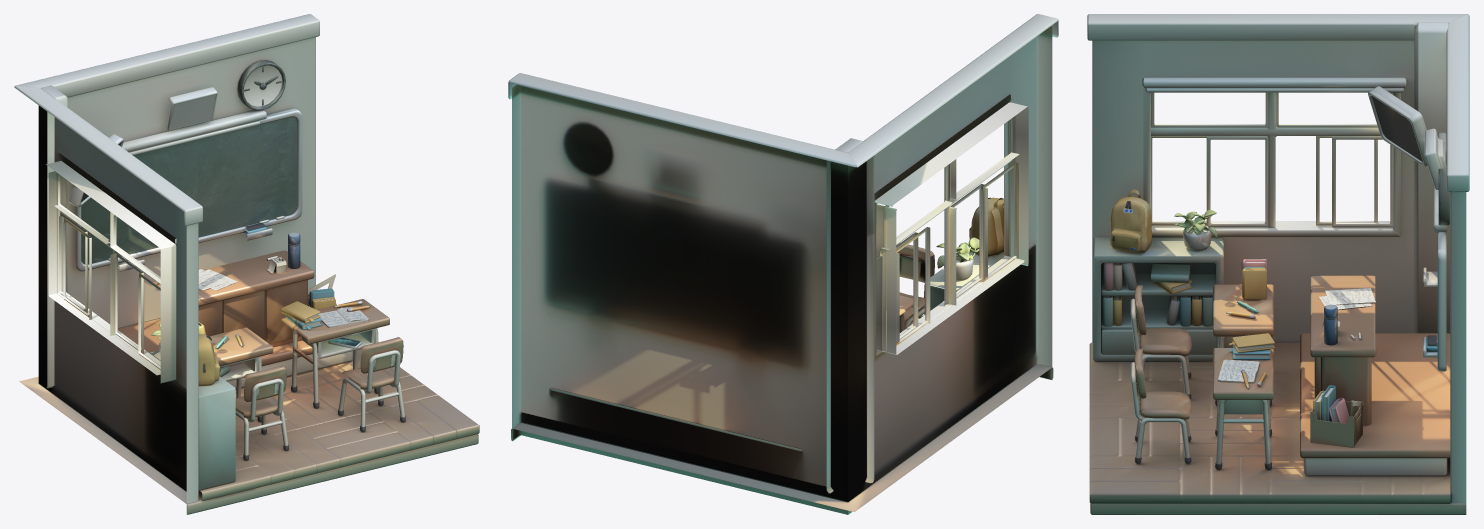
File: New_ClassRoom.fbx
3 renders of one model, left to right at view 1: azimuth 30°, elevation 25°; view 2: azimuth 150°, elevation 25°; view 3: azimuth 270°, elevation 25°, orthographic. The views are drawn at different scales.
Visible parts, largest first — view 1: qiang05, heiban02, kezhuo04, jiangtai03, shujia08, shubi10, shubao07, yinxiang09; view 2: qiang05, shujia08, kezhuo04, shubao07, jiangtai03; view 3: qiang05, jiangtai03, kezhuo04, shubi10, shujia08, heiban02, shubao07, dianshi01.
Part boxes in pixels (x1=…): qiang05: x1=14, y1=14, x2=479, y2=514; heiban02: x1=68, y1=60, x2=302, y2=271; kezhuo04: x1=210, y1=299, x2=405, y2=460; jiangtai03: x1=118, y1=250, x2=352, y2=389; shujia08: x1=149, y1=323, x2=235, y2=490; shubi10: x1=198, y1=232, x2=370, y2=376; shubao07: x1=198, y1=334, x2=361, y2=385; yinxiang09: x1=170, y1=94, x2=216, y2=129; qiang05: x1=508, y1=14, x2=1058, y2=514; shujia08: x1=924, y1=237, x2=1003, y2=314; kezhuo04: x1=896, y1=242, x2=934, y2=332; shubao07: x1=969, y1=197, x2=1003, y2=256; jiangtai03: x1=549, y1=388, x2=802, y2=451; qiang05: x1=1087, y1=14, x2=1469, y2=514; jiangtai03: x1=1300, y1=275, x2=1450, y2=476; kezhuo04: x1=1130, y1=284, x2=1273, y2=469; shubi10: x1=1102, y1=259, x2=1375, y2=447; shujia08: x1=1093, y1=210, x2=1223, y2=361; heiban02: x1=1368, y1=86, x2=1449, y2=371; shubao07: x1=1110, y1=189, x2=1217, y2=400; dianshi01: x1=1372, y1=96, x2=1422, y2=161.
Size of the model in its own units: 609 by 601 by 609.
